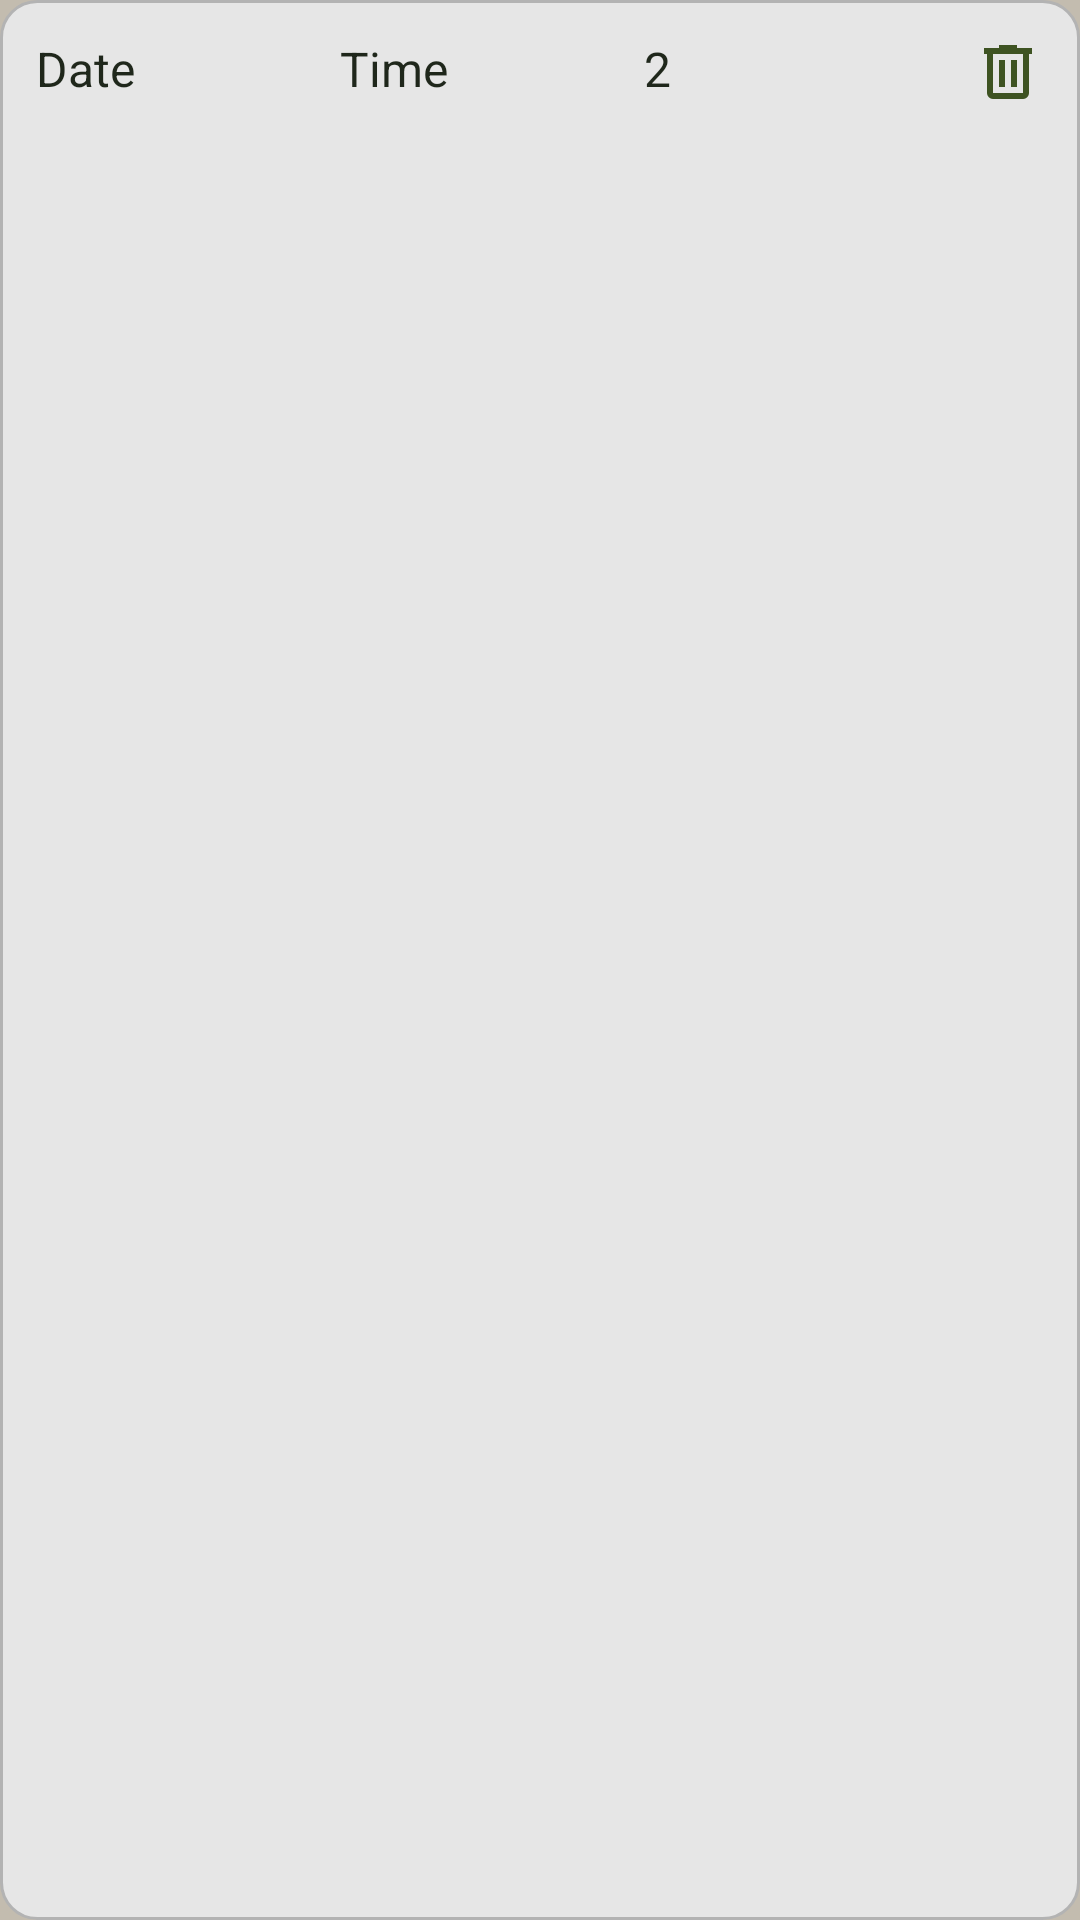

Point at icon controls on the screen. Image size 1080w x 1920h, points as [x,y].
Delete Booking: [1008,72]
